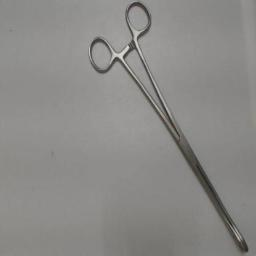Sponge Forceps: (84, 1, 254, 255)
